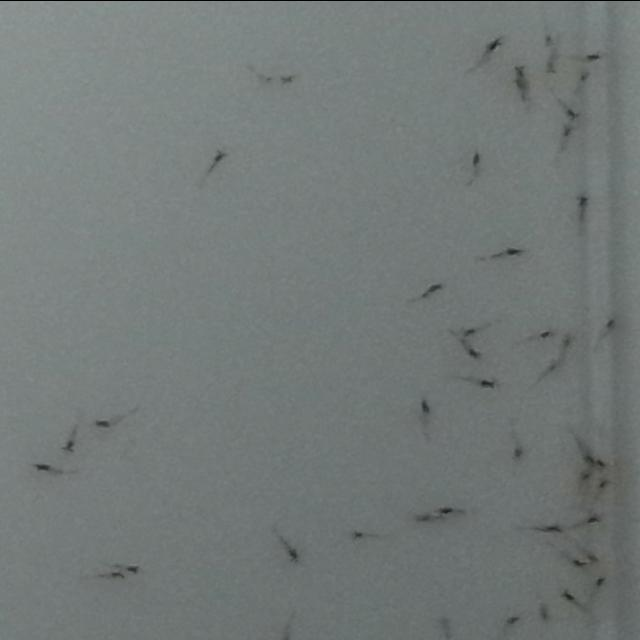shrimp-seed: (538, 602, 554, 622), (438, 613, 454, 633), (542, 520, 564, 534), (211, 148, 230, 164), (505, 614, 523, 630), (34, 459, 52, 474), (479, 377, 498, 391), (560, 331, 576, 347), (280, 70, 296, 86), (548, 355, 562, 373), (285, 548, 303, 562), (61, 438, 79, 452), (576, 194, 592, 209), (415, 512, 434, 524), (483, 38, 502, 50), (543, 34, 558, 49), (559, 588, 575, 602), (587, 512, 603, 526), (602, 315, 618, 329), (508, 244, 524, 258), (568, 106, 584, 120), (588, 50, 604, 64), (514, 60, 528, 76), (426, 282, 444, 294), (94, 418, 112, 430), (598, 476, 612, 491), (545, 59, 559, 74), (419, 398, 433, 413), (351, 528, 366, 542), (438, 504, 454, 517), (468, 348, 484, 361), (588, 550, 602, 564), (578, 469, 592, 483), (513, 446, 527, 460), (469, 152, 483, 166), (462, 326, 478, 338), (125, 562, 141, 574), (110, 568, 126, 580), (572, 556, 585, 570), (540, 328, 554, 341), (562, 124, 575, 138), (584, 452, 596, 466), (579, 70, 591, 84), (596, 576, 607, 590), (596, 458, 608, 470)
